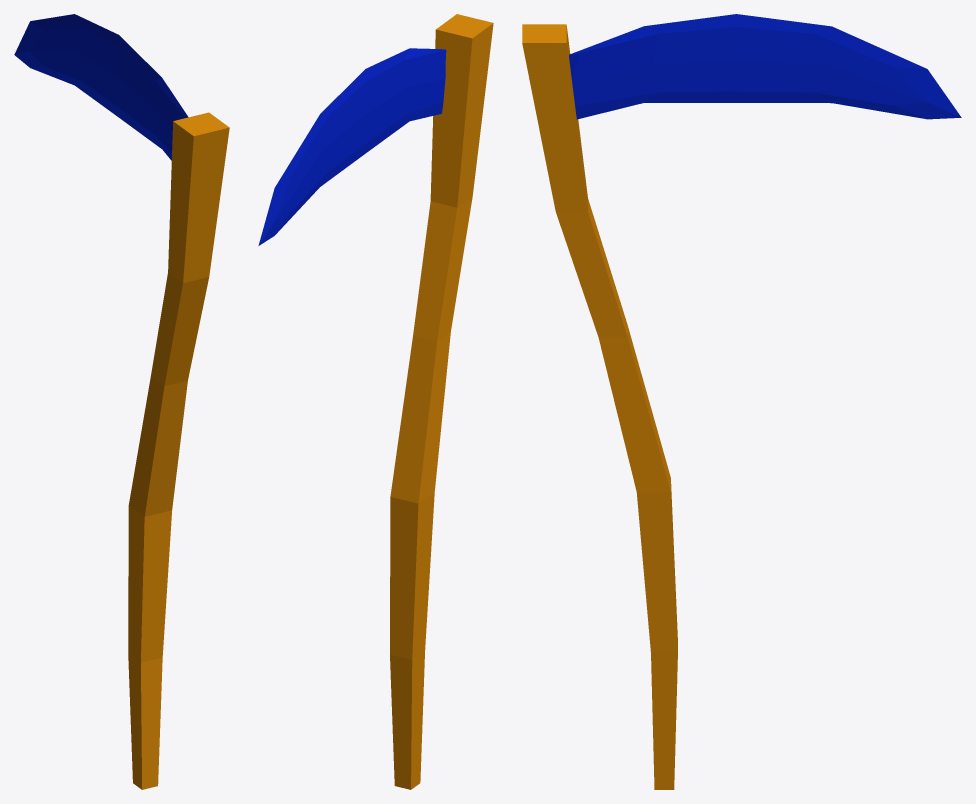
Rendered from Sythe(1).fbx.
The picture shows the model from 3 angles, left to right: view 1: azimuth 30°, elevation 25°; view 2: azimuth 150°, elevation 25°; view 3: azimuth 270°, elevation 25°; orthographic projection. The views are drawn at different scales.
Visible parts, largest first — view 1: Cube, Cube.001; view 2: Cube, Cube.001; view 3: Cube.001, Cube.
Part boxes in pixels (x1=…): Cube: x1=128, y1=112, x2=229, y2=789; Cube.001: x1=14, y1=14, x2=188, y2=160; Cube: x1=390, y1=14, x2=493, y2=789; Cube.001: x1=258, y1=48, x2=446, y2=245; Cube.001: x1=569, y1=14, x2=961, y2=119; Cube: x1=522, y1=24, x2=677, y2=789.
Size of the model in its own units: 15.8 by 304 by 156.
